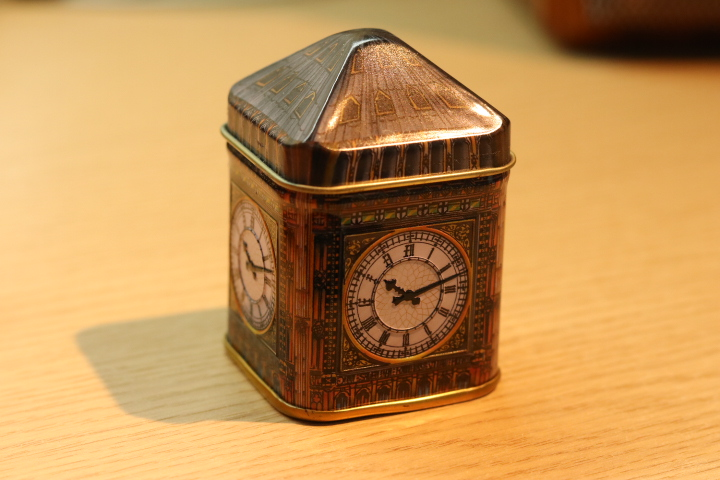Big Ben: (215, 19, 528, 438)
